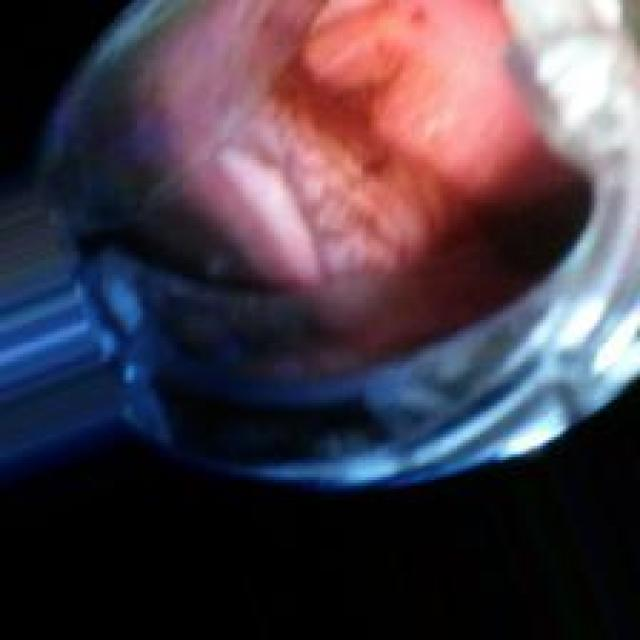type-3: (50, 15, 640, 504)
